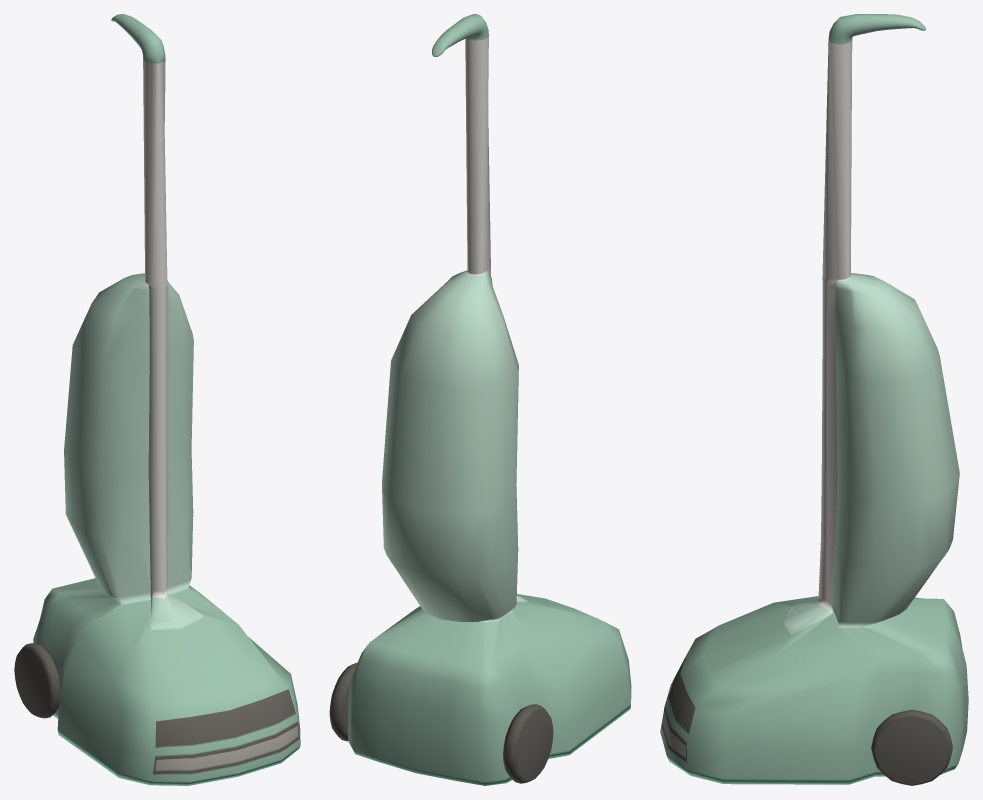
File: Vacuum.fbx
The picture shows the model from 3 angles, left to right: view 1: azimuth 30°, elevation 25°; view 2: azimuth 150°, elevation 25°; view 3: azimuth 270°, elevation 25°; orthographic projection. The views are drawn at different scales.
Visible parts, largest first — view 1: pSphere2, pCylinder1; view 2: pSphere2, pCylinder1; view 3: pSphere2, pCylinder1.
Boxes of the visible parts, <box> form: pSphere2: <box>33,14,300,785</box>; pCylinder1: <box>14,643,61,718</box>; pSphere2: <box>348,14,631,785</box>; pCylinder1: <box>329,662,553,783</box>; pSphere2: <box>660,14,968,784</box>; pCylinder1: <box>871,709,952,785</box>.
Size of the model in its own units: 0.2295 by 0.8138 by 0.3129.
